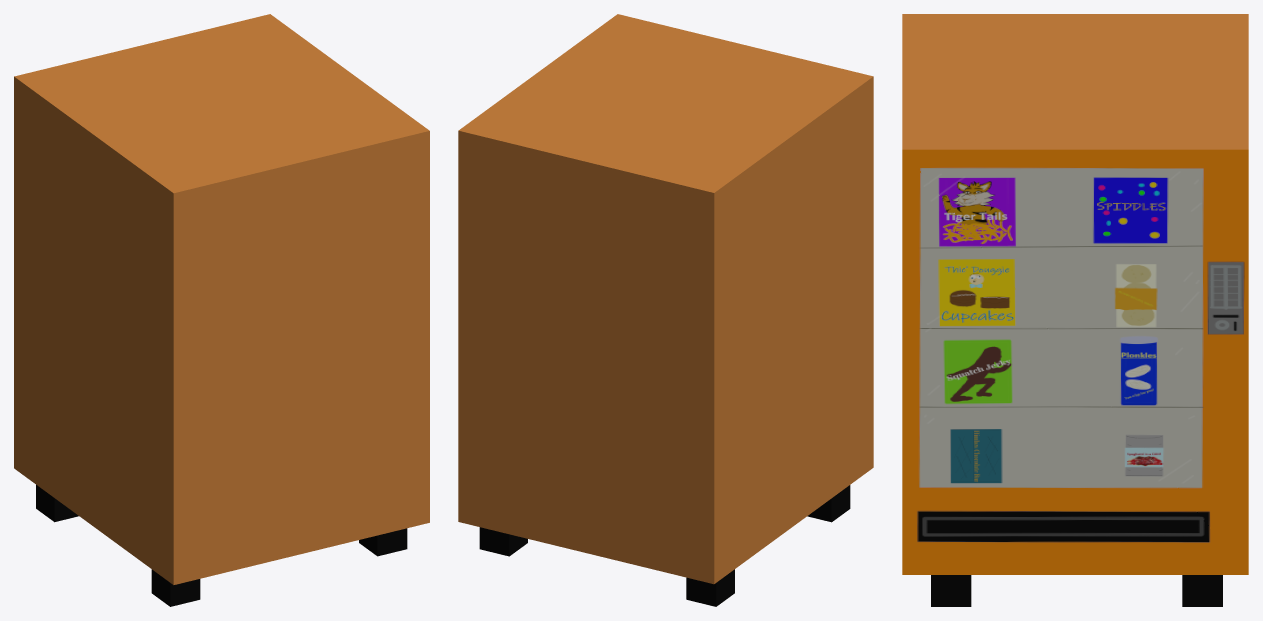
The model's file is VendingMachine2.fbx.
3 views of the same model, side by side, from view 1: azimuth 30°, elevation 25°; view 2: azimuth 150°, elevation 25°; view 3: azimuth 270°, elevation 25° (orthographic). The views are drawn at different scales.
Parts seen in each view (by area): view 1: Cube; view 2: Cube; view 3: Cube.
Boxes of the visible parts, <box> form: Cube: <box>14,14,429,606</box>; Cube: <box>458,14,873,606</box>; Cube: <box>902,14,1248,606</box>.
Size of the model in its own units: 421 by 390 by 620.
Materials: 3 (1 with a texture image).
